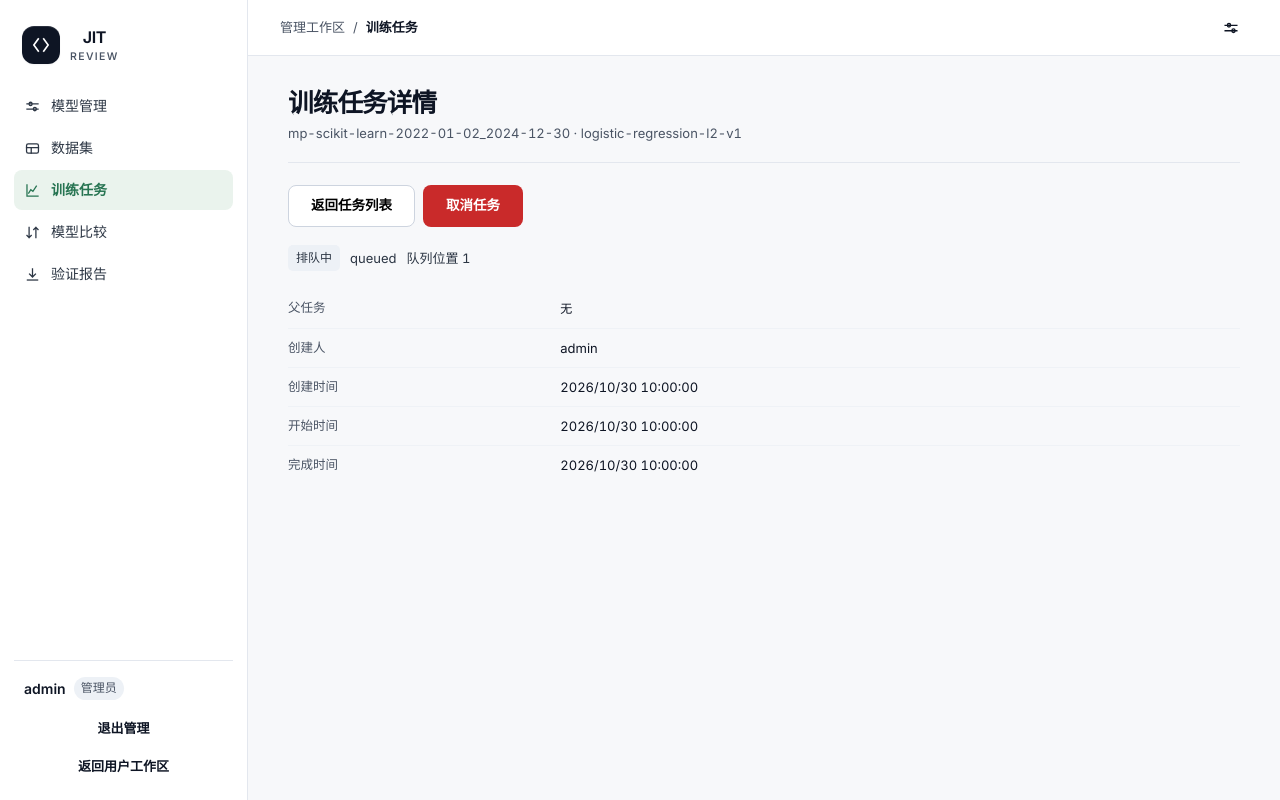
Test: cancels an active task and shows the terminal state
Step 1. Click the button "取消任务" → coordinates (473, 206), box [423, 185, 523, 227]
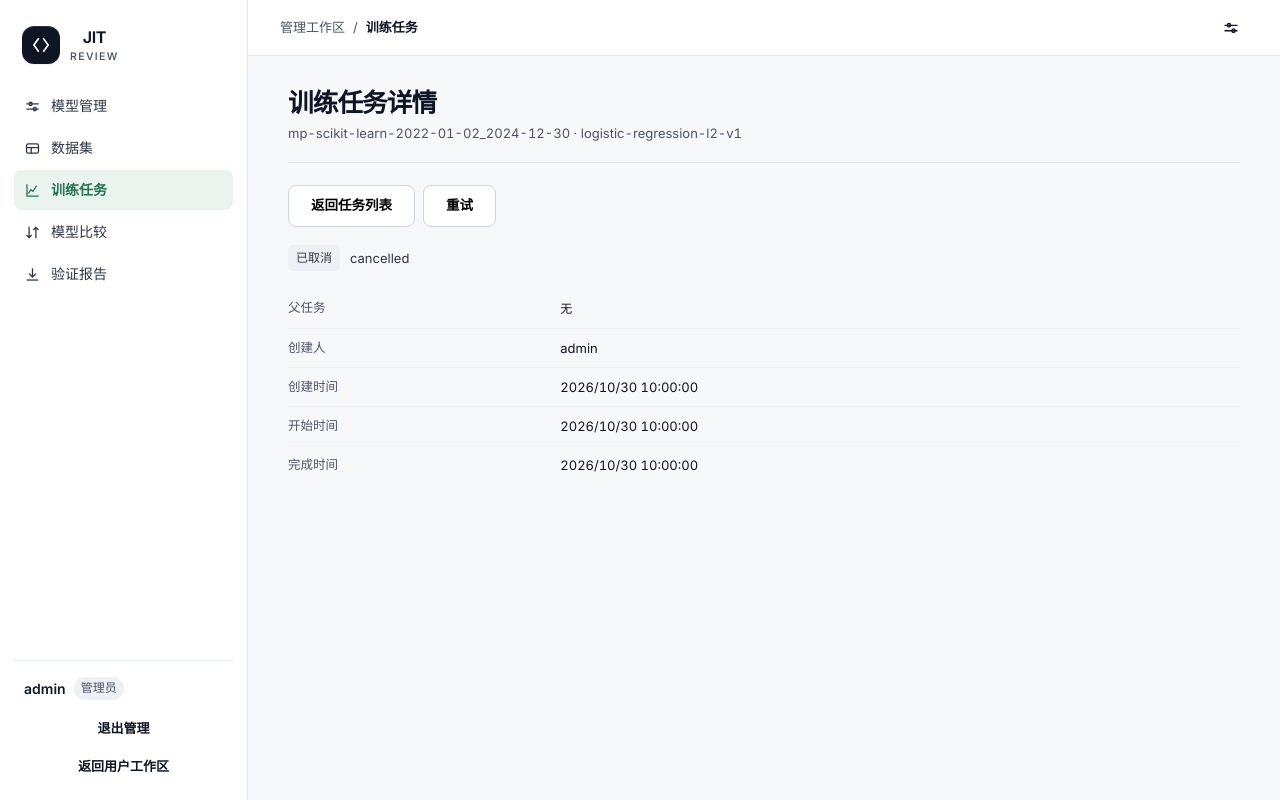
Now the text "已取消" is shown, box [288, 245, 340, 271]
